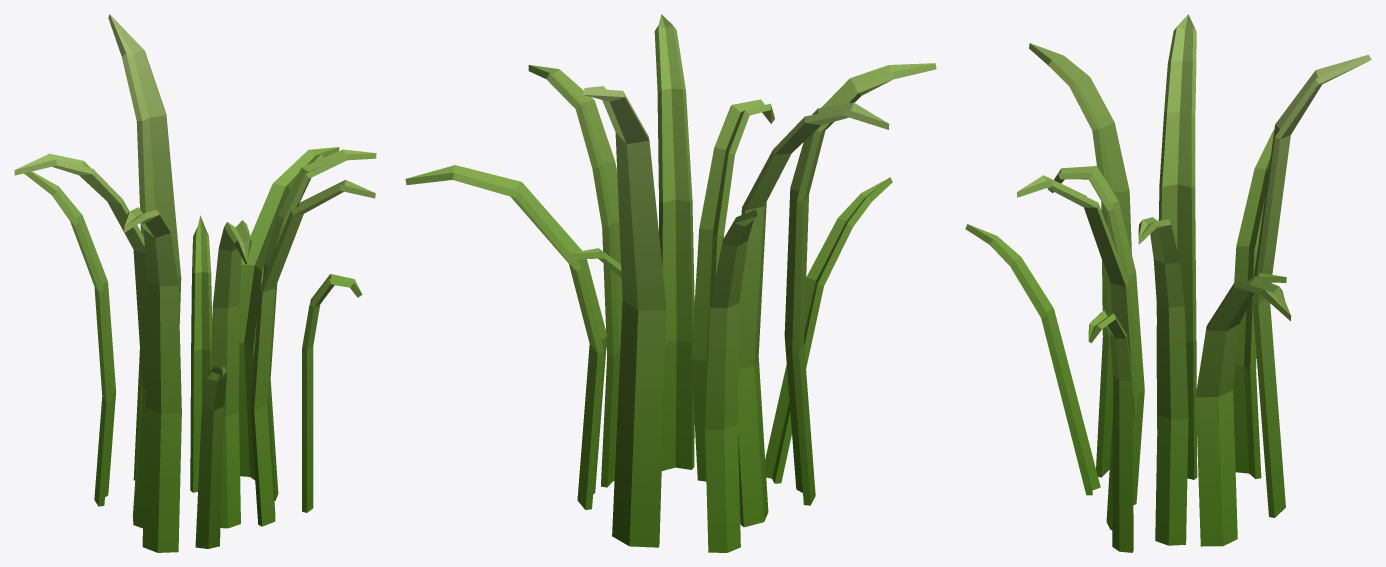
File: plants green 2.fbx
The picture shows the model from 3 angles, left to right: view 1: azimuth 30°, elevation 25°; view 2: azimuth 150°, elevation 25°; view 3: azimuth 270°, elevation 25°; orthographic projection. The views are drawn at different scales.
Parts seen in each view (by area): view 1: plants green 2; view 2: plants green 2; view 3: plants green 2.
Boxes of the visible parts, x1,y1,x2,y2 form: plants green 2: (14, 14, 376, 552); plants green 2: (405, 14, 936, 552); plants green 2: (965, 14, 1371, 552).
Bounding box in the file's own units: 162 × 178 × 145.
